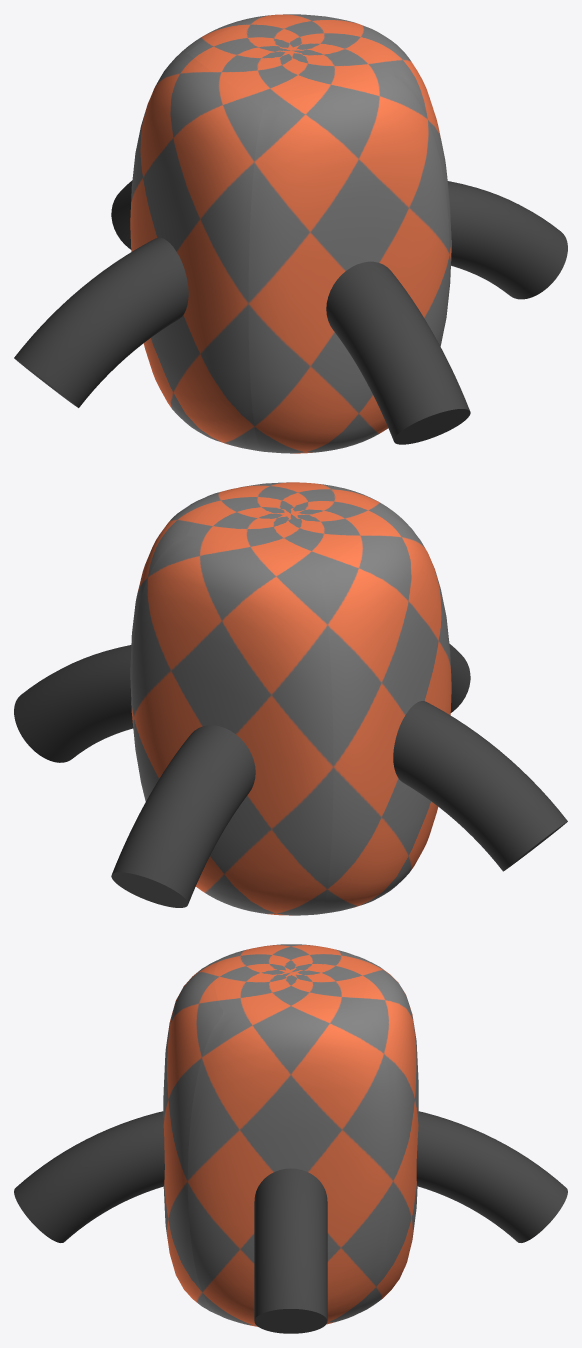
File: Body(Oblong)+Colour(More_Orange)+Pattern(Diamond)+Arm_Angle(Bent_Down).fbx
3 views of the same model, one above another, from view 1: azimuth 30°, elevation 25°; view 2: azimuth 150°, elevation 25°; view 3: azimuth 270°, elevation 25° (orthographic). The views are drawn at different scales.
Parts seen in each view (by area): view 1: Body(Oblong)+Colour(More_Orange)+Pattern(Diamond)+Arm_Angle( (×5); view 2: Body(Oblong)+Colour(More_Orange)+Pattern(Diamond)+Arm_Angle( (×5); view 3: Body(Oblong)+Colour(More_Orange)+Pattern(Diamond)+Arm_Angle( (×4).
Part boxes in pixels (x1=…): Body(Oblong)+Colour(More_Orange)+Pattern(Diamond)+Arm_Angle( (×5): x1=14, y1=14, x2=567, y2=453; Body(Oblong)+Colour(More_Orange)+Pattern(Diamond)+Arm_Angle( (×5): x1=14, y1=482, x2=567, y2=915; Body(Oblong)+Colour(More_Orange)+Pattern(Diamond)+Arm_Angle( (×4): x1=14, y1=944, x2=567, y2=1333.
Bounding box in the file's own units: 60.67 × 40 × 60.67.
2 materials, 2 textured.
